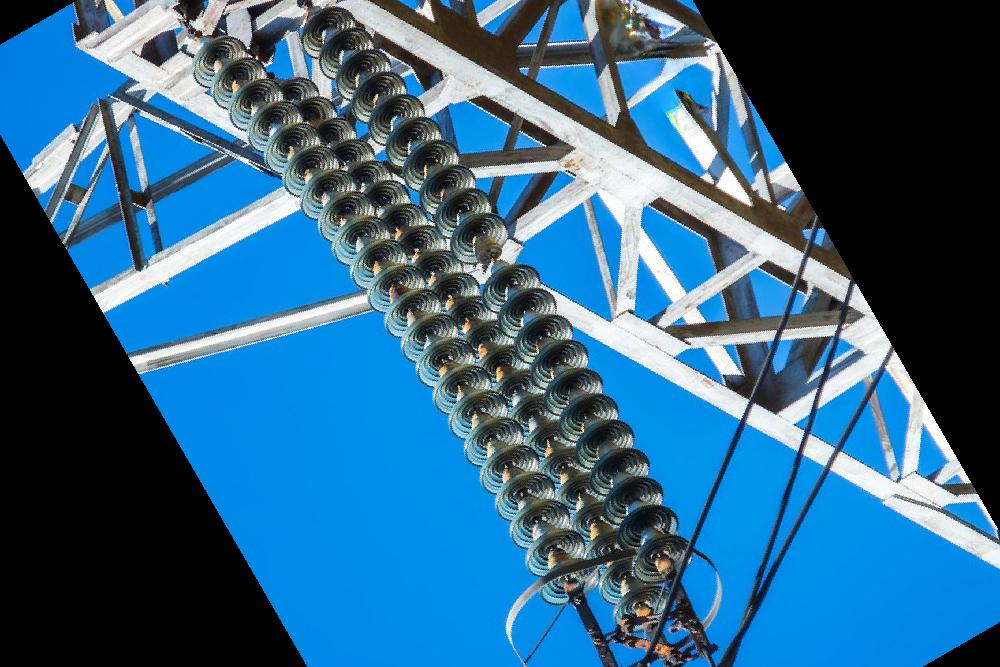insulator: (186, 32, 669, 635), (295, 2, 699, 591)
insulator_stringdrop: (446, 209, 546, 318)
